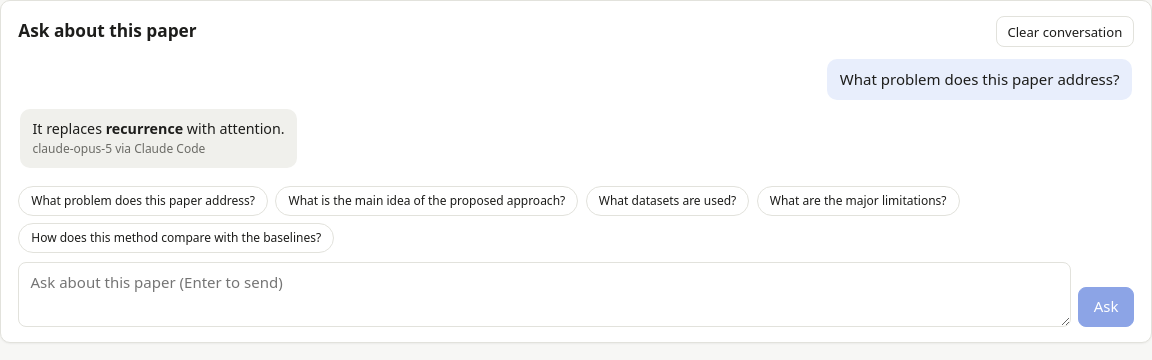
Test: ChatPanel › clears the conversation after confirmation
Click the button "Clear conversation". click: (1065, 32)
box: left=996, top=16, right=1134, bottom=47
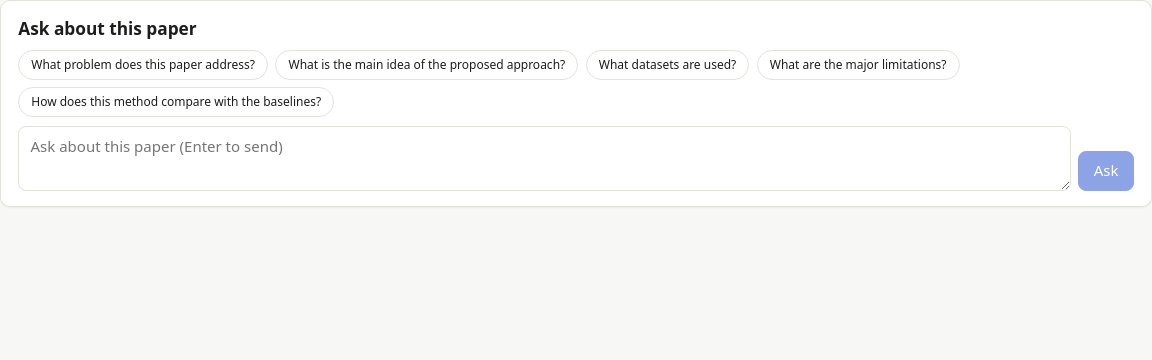
Now the button "Clear conversation" is gone
